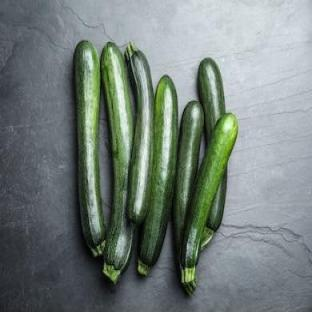Zucchini: (180, 113, 237, 293), (138, 76, 177, 275), (101, 42, 133, 283), (74, 41, 104, 256), (125, 42, 153, 225), (172, 101, 203, 254), (198, 58, 225, 146)
